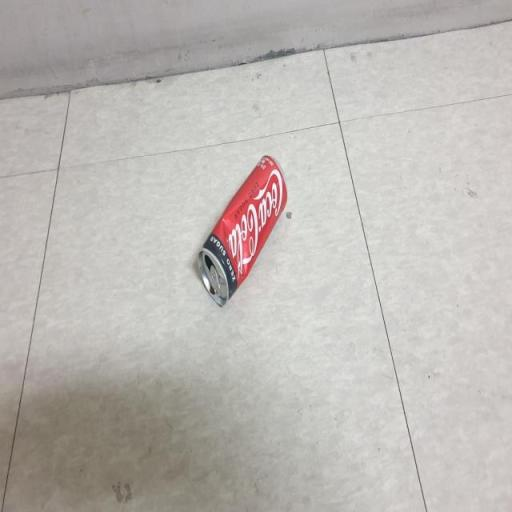metal: (192, 136, 296, 322)
